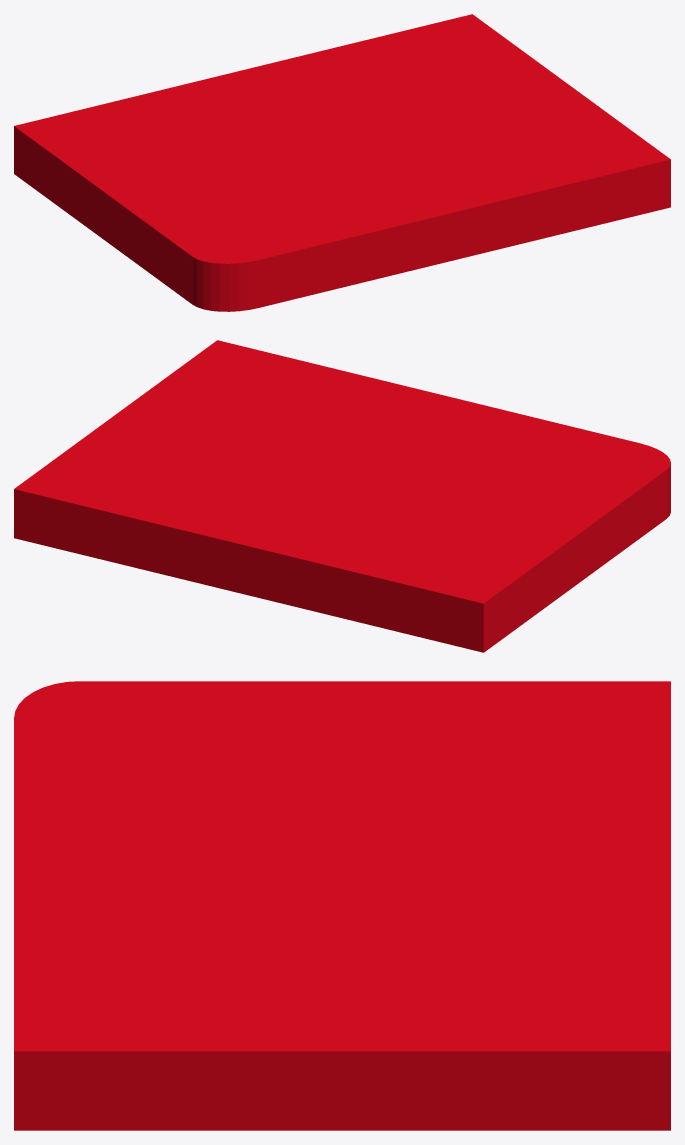
Rendered from red consumer board.fbx.
3 renders of one model, top to bottom at view 1: azimuth 30°, elevation 25°; view 2: azimuth 150°, elevation 25°; view 3: azimuth 270°, elevation 25°, orthographic. The views are drawn at different scales.
Parts seen in each view (by area): view 1: Cube.009; view 2: Cube.009; view 3: Cube.009.
Boxes of the visible parts, box(x1,y1,x2,y2) form: Cube.009: box(14, 14, 670, 311); Cube.009: box(14, 340, 670, 652); Cube.009: box(14, 681, 670, 1130).
Bounding box in the file's own units: 200 × 20 × 150.
